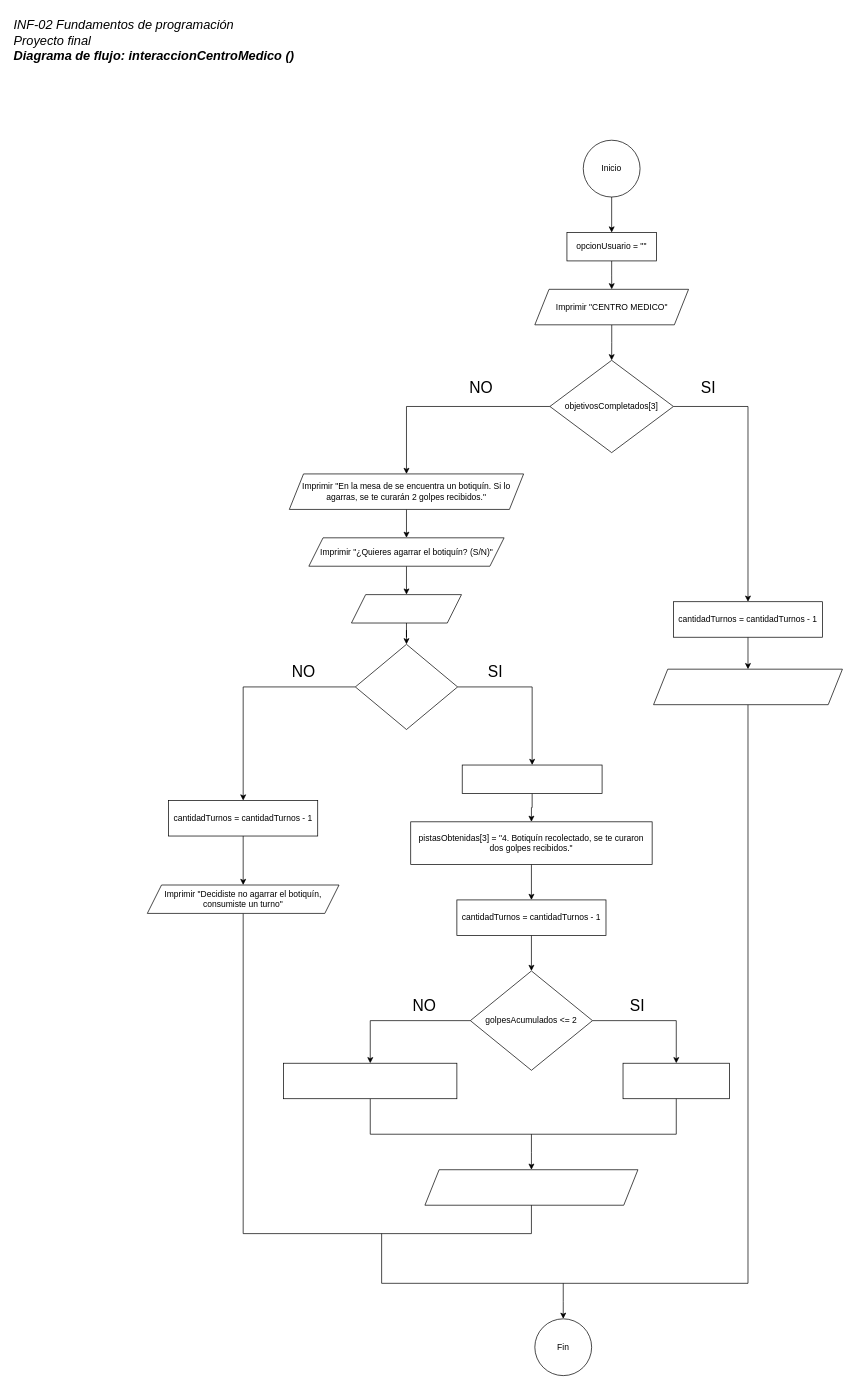
Some shapes in this 855 by 1388 pixel diagram are drawn without their labels. Each missing label, with the centre of its shape:
golpesAcumulados = 0: point 676,1081
golpesAcumulados = golpesAcumulados - 2: point 370,1081
Imprimir "Botiquín utilizado, consumiste el turno.": point 531,1187
Imprimir "Ya completaste esta interacción, perdiste un turno...": point 747,686
Leer opcionUsuario: point 406,608
objetivosCompletados[3] = true: point 532,778
opcionUsuario == "s": point 406,687
